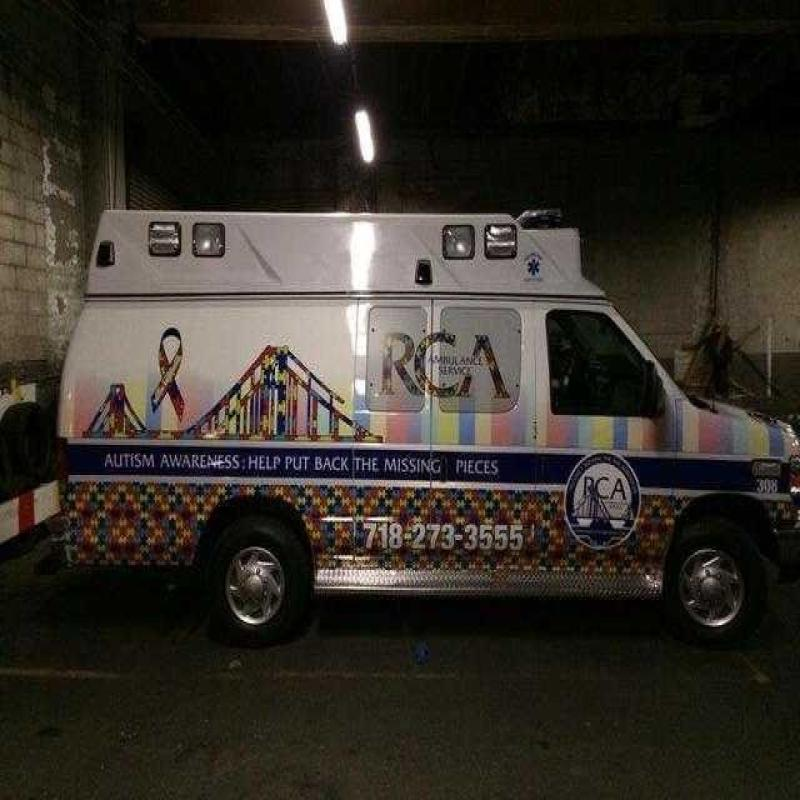AmbulanceSiren: (124, 220, 246, 284), (435, 225, 535, 256)
